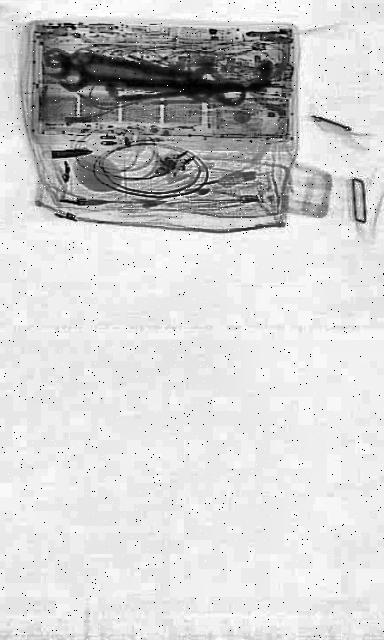Wrench: (59, 59, 245, 114)
